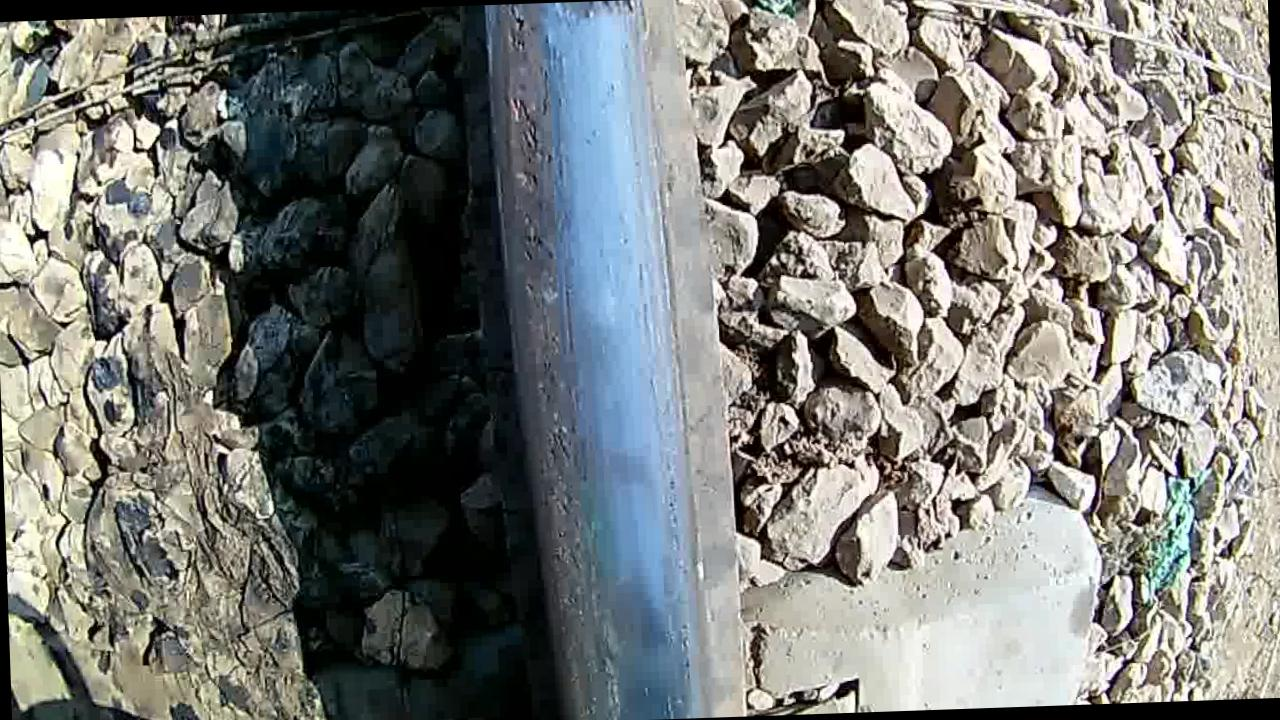crack: (486, 0, 708, 720)
